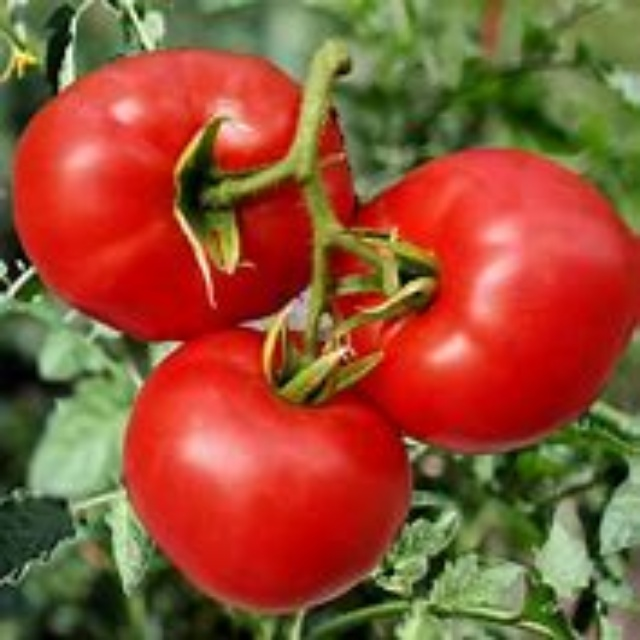tomato: (322, 139, 639, 454), (14, 50, 353, 340), (130, 327, 417, 619)
